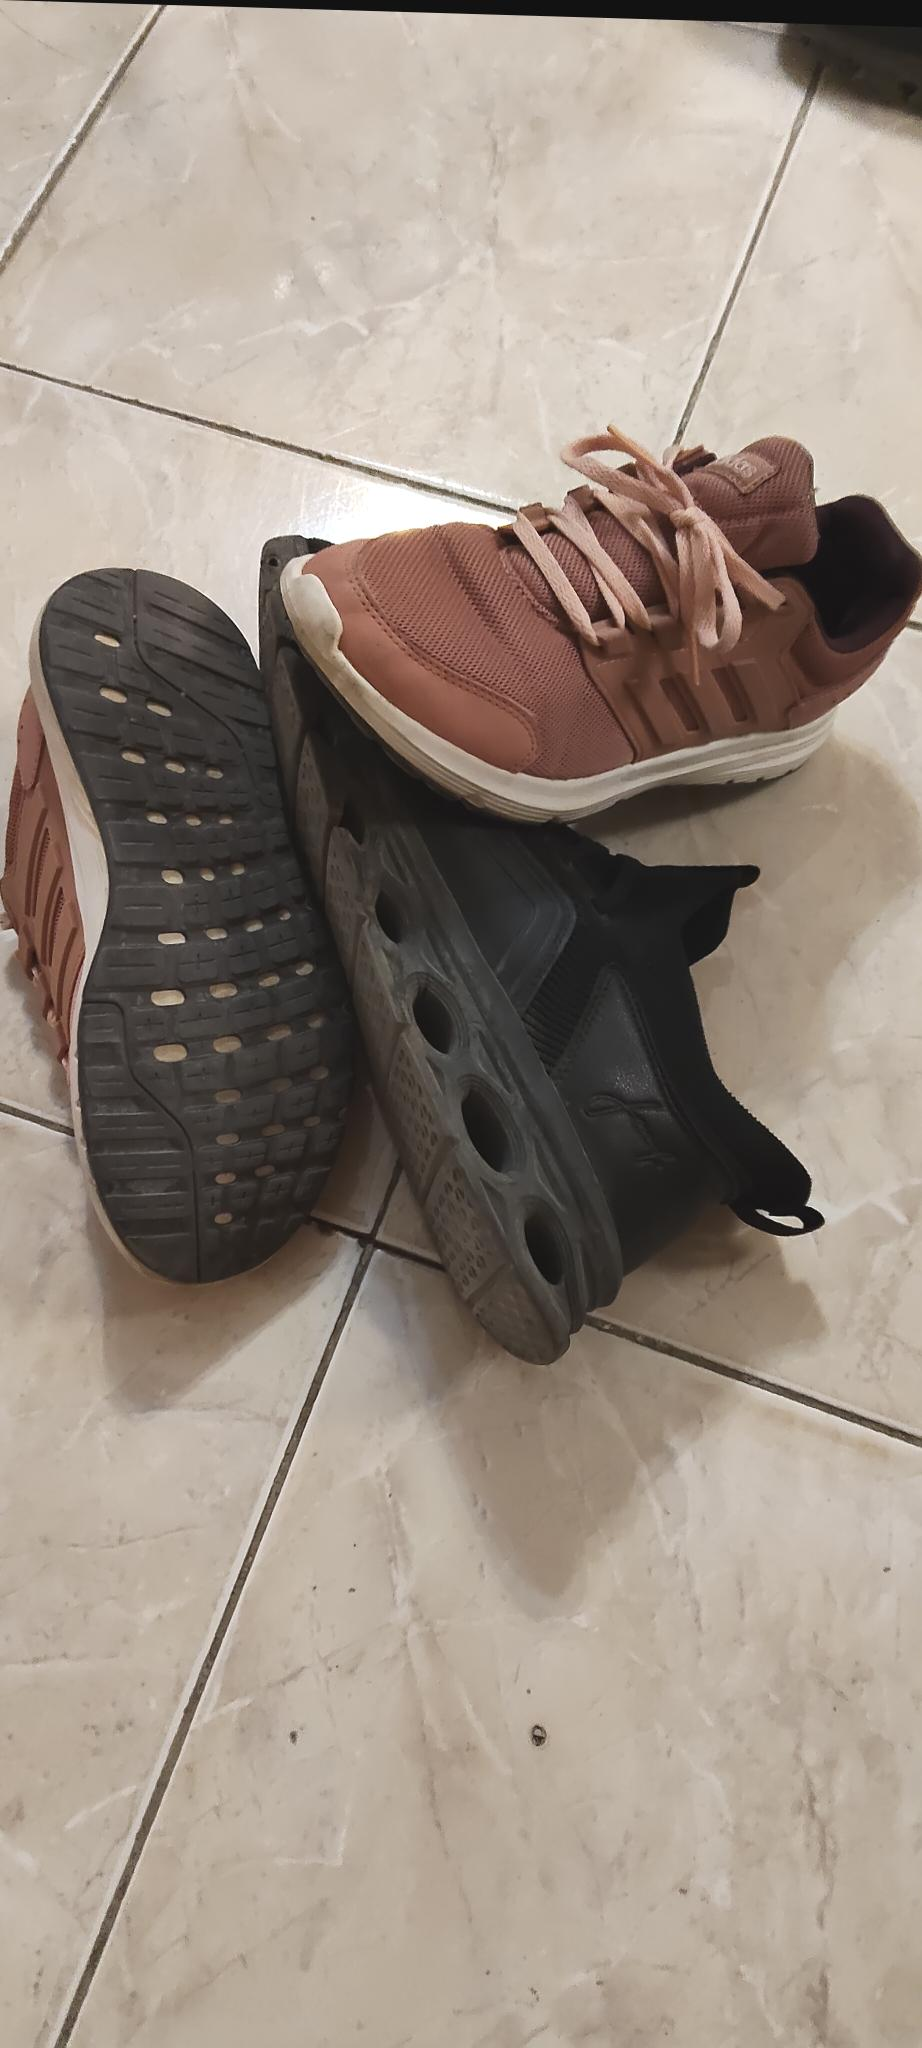Shoes: (253, 533, 822, 1368), (278, 419, 921, 831), (0, 562, 353, 1290)
